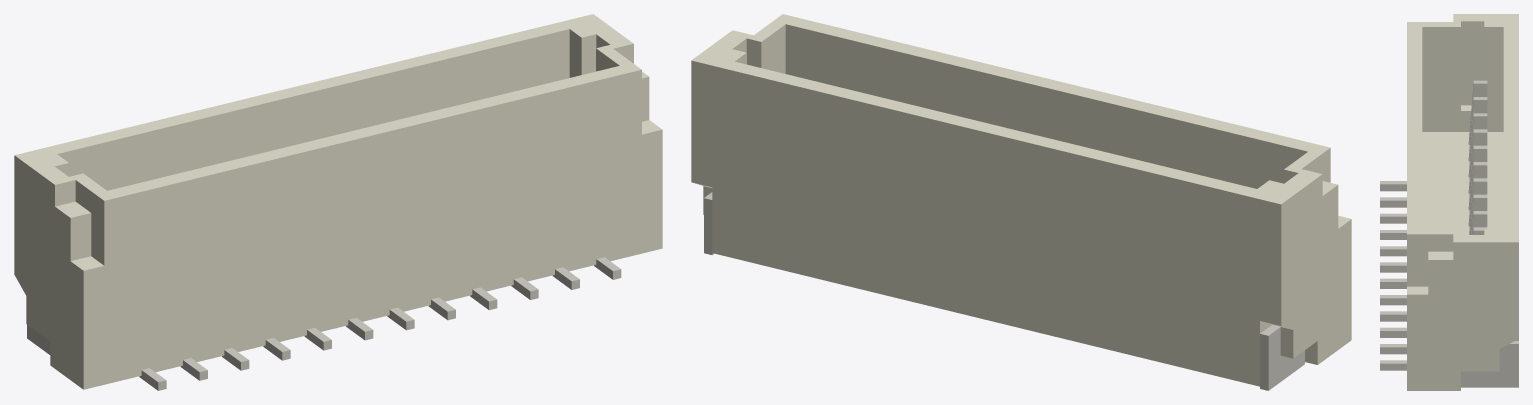
File: kc-jst_sh_bm12b-srss-tb_1x12-1mp_p1.00mm_vertical.glb
3 renders of one model, left to right at view 1: azimuth 30°, elevation 25°; view 2: azimuth 150°, elevation 25°; view 3: azimuth 270°, elevation 25°, orthographic. The views are drawn at different scales.
Visible parts, largest first — view 1: 0.75_0.75_0.6666666666666666_0, 0.6666666666666666_0.6666666666666666_0.5833333333333334_0.8; view 2: 0.75_0.75_0.6666666666666666_0, 0.6666666666666666_0.6666666666666666_0.5833333333333334_0.8; view 3: 0.75_0.75_0.6666666666666666_0, 0.6666666666666666_0.6666666666666666_0.5833333333333334_0.8.
Part boxes in pixels (bbox=[...]): 0.75_0.75_0.6666666666666666_0: bbox=[14, 14, 662, 389]; 0.6666666666666666_0.6666666666666666_0.5833333333333334_0.8: bbox=[27, 257, 621, 390]; 0.75_0.75_0.6666666666666666_0: bbox=[691, 14, 1351, 386]; 0.6666666666666666_0.6666666666666666_0.5833333333333334_0.8: bbox=[704, 192, 1304, 390]; 0.75_0.75_0.6666666666666666_0: bbox=[1407, 14, 1518, 390]; 0.6666666666666666_0.6666666666666666_0.5833333333333334_0.8: bbox=[1380, 80, 1518, 387].
Size of the model in its own units: 1.4 by 0.4321 by 0.3601.
